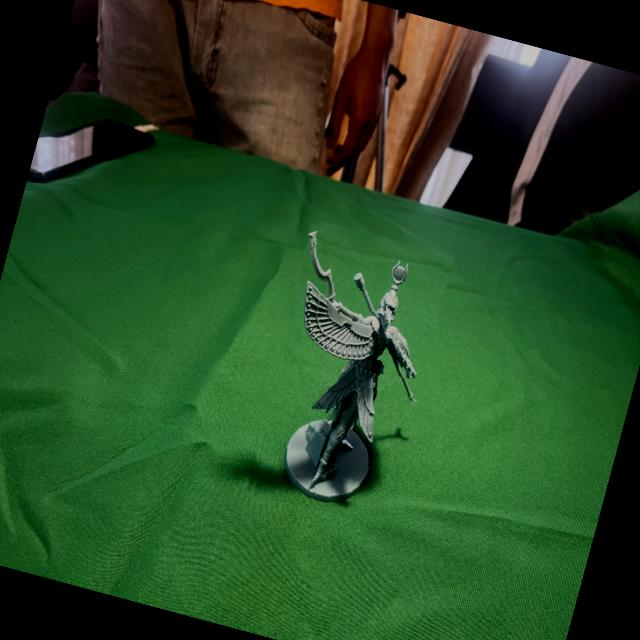isis: (242, 218, 458, 530)
